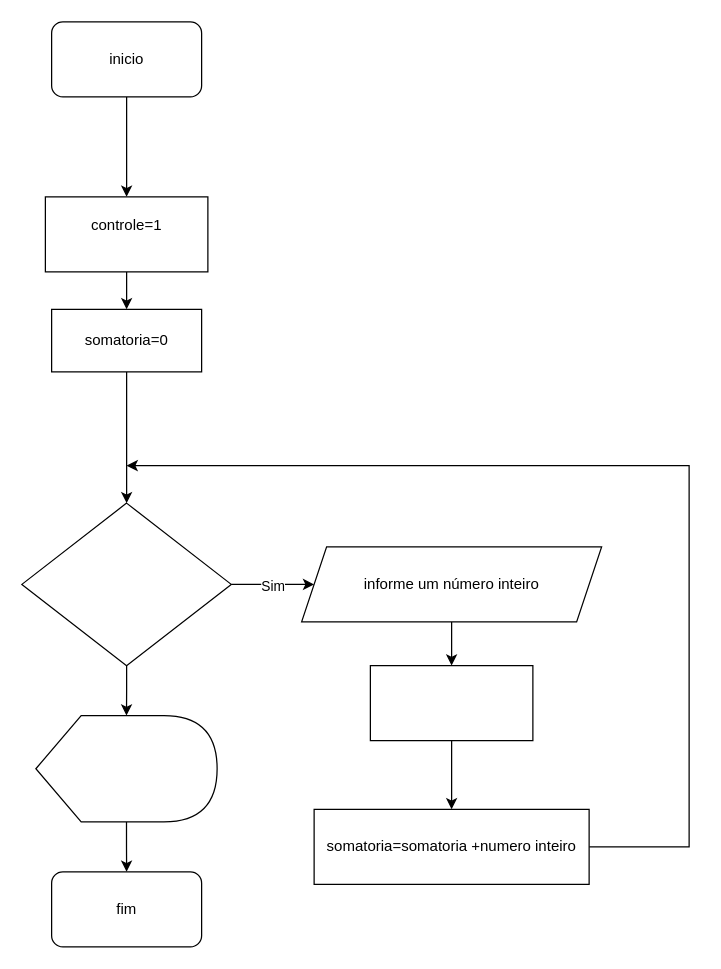
The diagram is 721 pixels wide and 969 high, and some of its shapes have lost their labels. Here are the shapes that lost their labels. From the top down, the centre of each, then its label:
At pixel 126 584: "se o controle for menor que 11".
At pixel 451 702: "controle=controle +1".
At pixel 126 768: "imprime o valor de somatoria".
